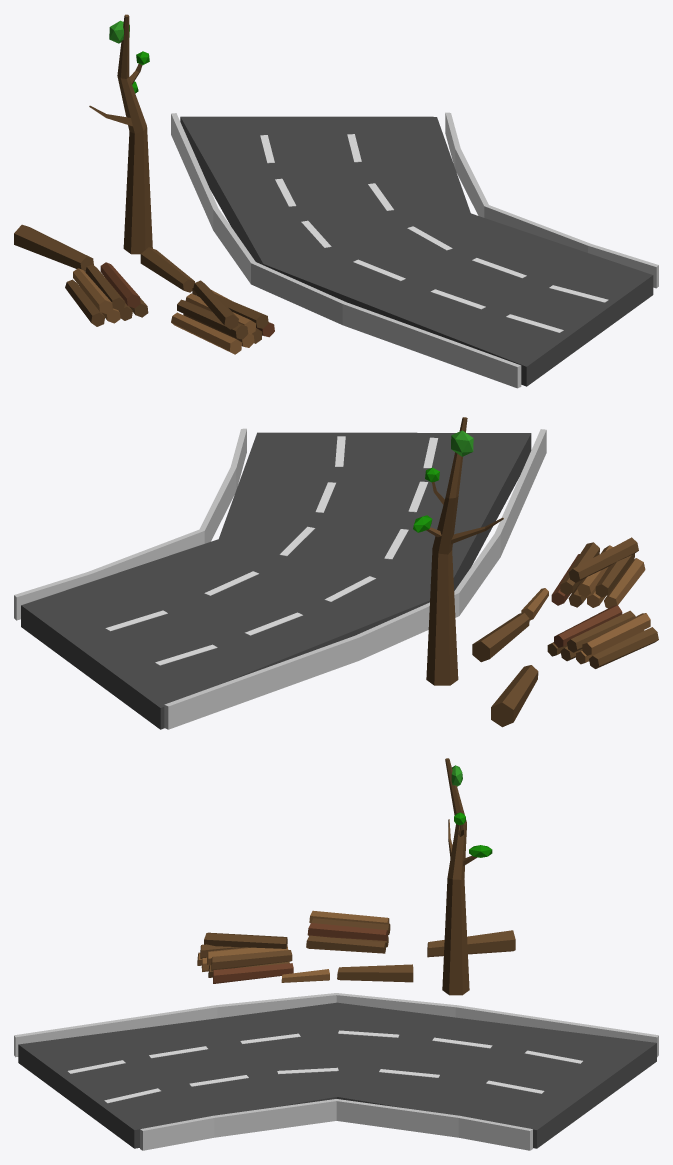
File: highway_02_5.fbx
The picture shows the model from 3 angles, top to bottom: view 1: azimuth 30°, elevation 25°; view 2: azimuth 150°, elevation 25°; view 3: azimuth 270°, elevation 25°; orthographic projection. The views are drawn at different scales.
Visible parts, largest first — view 1: autobahn02.005, leitPlankOutside.005, Cylinder.016, leitPlankInside.005, Cylinder.017, Cylinder.018, Cylinder.021, Cylinder.024, Cylinder.034, Cylinder.031, Cylinder.032, Cylinder.028 (+2 smaller); view 2: autobahn02.005, leitPlankOutside.005, Cylinder.016, leitPlankInside.005, Cylinder.017, Cylinder.018, Cylinder.034, Cylinder.031, Cylinder.028, Cylinder.032, Cylinder.021, Cylinder.033 (+3 smaller); view 3: autobahn02.005, leitPlankInside.005, leitPlankOutside.005, Cylinder.016, Cylinder.017, Cylinder.018, Cylinder.034, Cylinder.025, Cylinder.022, Cylinder.029, Cylinder.032.
Boxes of the visible parts, x1=… form: autobahn02.005: x1=180, y1=116, x2=653, y2=386; leitPlankOutside.005: x1=171, y1=113, x2=521, y2=388; Cylinder.016: x1=89, y1=14, x2=152, y2=254; leitPlankInside.005: x1=445, y1=112, x2=658, y2=288; Cylinder.017: x1=14, y1=224, x2=93, y2=271; Cylinder.018: x1=140, y1=247, x2=194, y2=292; Cylinder.021: x1=171, y1=312, x2=241, y2=354; Cylinder.024: x1=177, y1=299, x2=248, y2=339; Cylinder.034: x1=193, y1=280, x2=238, y2=329; Cylinder.031: x1=73, y1=268, x2=112, y2=314; Cylinder.032: x1=100, y1=262, x2=140, y2=308; Cylinder.028: x1=65, y1=279, x2=104, y2=326; autobahn02.005: x1=21, y1=432, x2=531, y2=729; leitPlankOutside.005: x1=164, y1=429, x2=546, y2=729; Cylinder.016: x1=426, y1=417, x2=503, y2=685; leitPlankInside.005: x1=14, y1=428, x2=246, y2=620; Cylinder.017: x1=491, y1=665, x2=538, y2=727; Cylinder.018: x1=472, y1=612, x2=529, y2=662; Cylinder.034: x1=568, y1=537, x2=638, y2=582; Cylinder.031: x1=582, y1=613, x2=650, y2=655; Cylinder.028: x1=589, y1=627, x2=658, y2=668; Cylinder.032: x1=554, y1=605, x2=622, y2=647; Cylinder.021: x1=604, y1=558, x2=645, y2=608; Cylinder.033: x1=567, y1=610, x2=635, y2=652; autobahn02.005: x1=18, y1=1002, x2=656, y2=1148; leitPlankInside.005: x1=140, y1=1099, x2=532, y2=1150; leitPlankOutside.005: x1=14, y1=993, x2=658, y2=1057; Cylinder.016: x1=442, y1=758, x2=477, y2=995; Cylinder.017: x1=427, y1=930, x2=515, y2=957; Cylinder.018: x1=337, y1=964, x2=413, y2=982; Cylinder.034: x1=204, y1=932, x2=287, y2=948; Cylinder.025: x1=211, y1=950, x2=292, y2=970; Cylinder.022: x1=213, y1=963, x2=293, y2=983; Cylinder.029: x1=306, y1=935, x2=385, y2=953; Cylinder.032: x1=308, y1=923, x2=387, y2=940.
Bounding box in the file's own units: 85.91 × 42.16 × 108.
